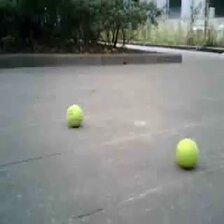tennis: (176, 138, 198, 167), (65, 105, 84, 127)
